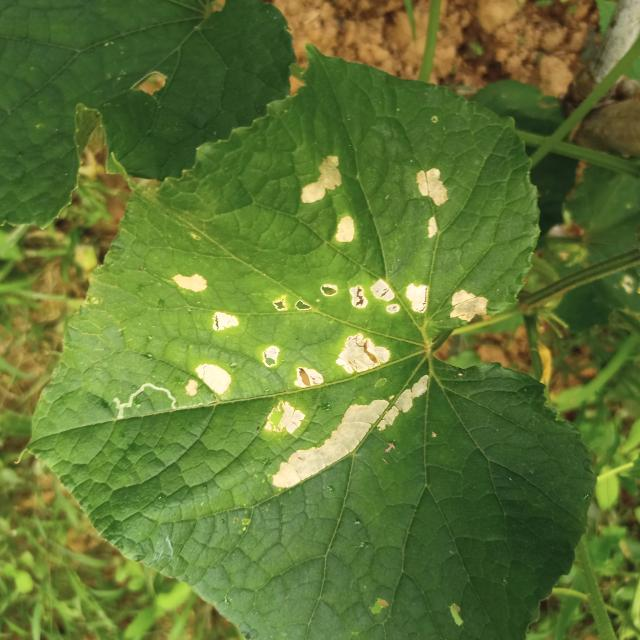disease_cucumber: (252, 329, 435, 495), (268, 259, 491, 329), (168, 263, 242, 402), (296, 148, 356, 248), (411, 159, 458, 241)
